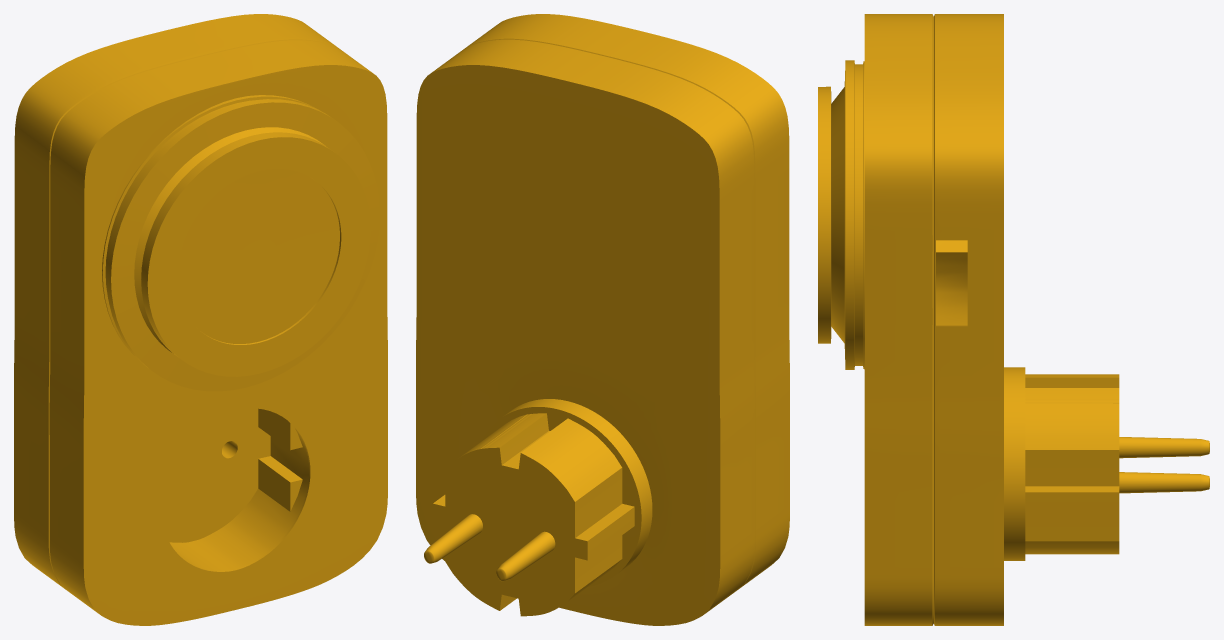
File: plugtimer.glb
The picture shows the model from 3 angles, left to right: view 1: azimuth 30°, elevation 25°; view 2: azimuth 150°, elevation 25°; view 3: azimuth 270°, elevation 25°; orthographic projection.
Visible parts, largest first — view 1: coffret_ext, roulette.001_red; view 2: coffret_ext, Circle.014, Circle.015; view 3: coffret_ext, roulette.001_red, interupteur.001, Circle.014, Circle.015.
Part boxes in pixels (x1,y1,x2,y2): coffret_ext: (14,14,387,625); roulette.001_red: (102,95,379,391); coffret_ext: (416,14,789,625); Circle.014: (424,514,482,563); Circle.015: (496,531,555,581); coffret_ext: (864,14,1119,625); roulette.001_red: (818,60,864,369); interupteur.001: (936,240,967,326); Circle.014: (1119,472,1209,493); Circle.015: (1119,437,1209,458).
Size of the model in its own units: 74.68 by 120 by 80.68.
